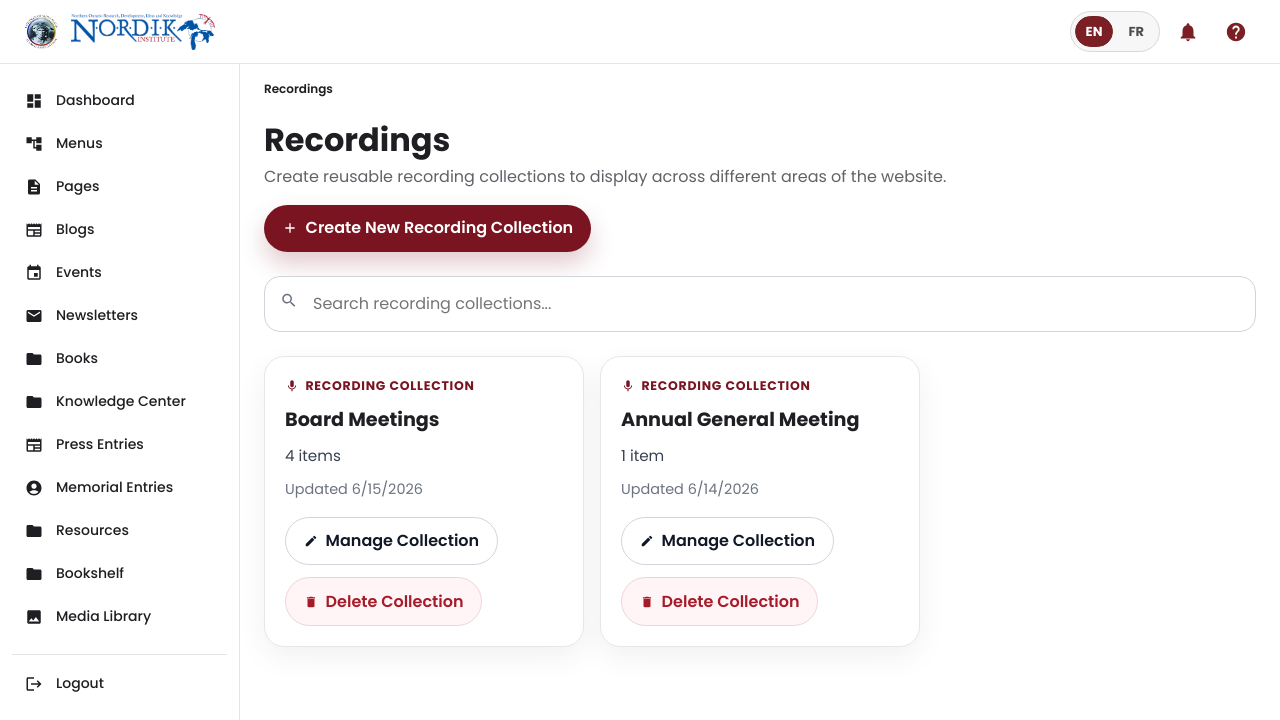
it: RecordingsListPage › filters collections by the search term
expect the heading "Board Meetings" is shown: met, box [285, 406, 440, 433]
Step 1. Type "board" into the search field → (760, 304), box [264, 276, 1256, 332]
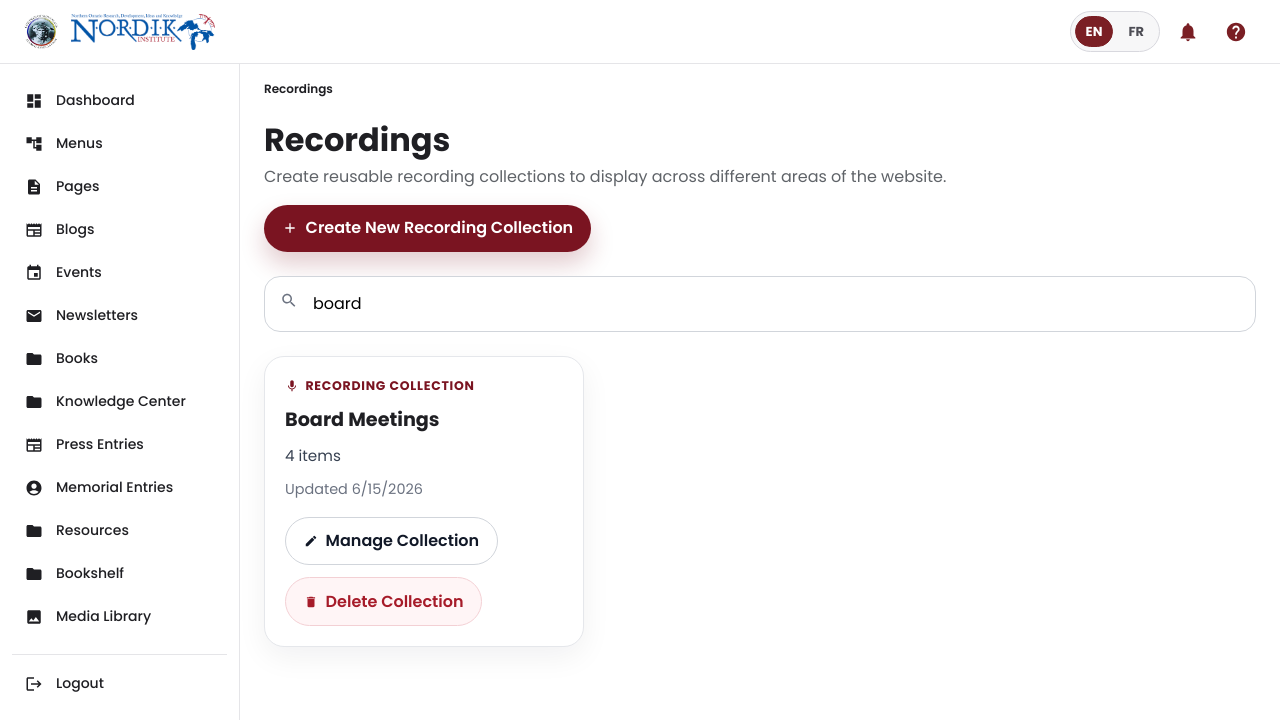
expect the heading "Board Meetings" is shown: met, box [285, 406, 440, 433]
expect the heading "Annual General Meeting" is gone: met
